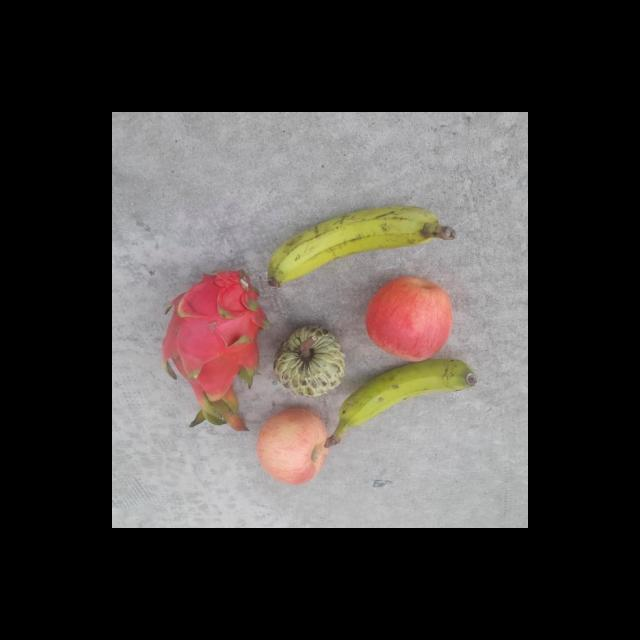Sakya fruit: (273, 323, 347, 397)
apple: (365, 275, 453, 362), (256, 407, 331, 486)
banana: (266, 207, 480, 289), (319, 358, 477, 448)
pitaya: (158, 270, 268, 433)
